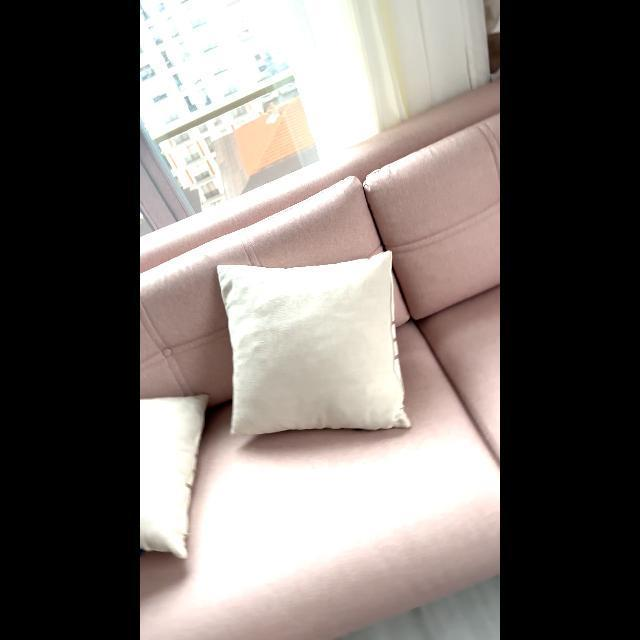throw pillow: (211, 249, 434, 445), (140, 380, 218, 570)
